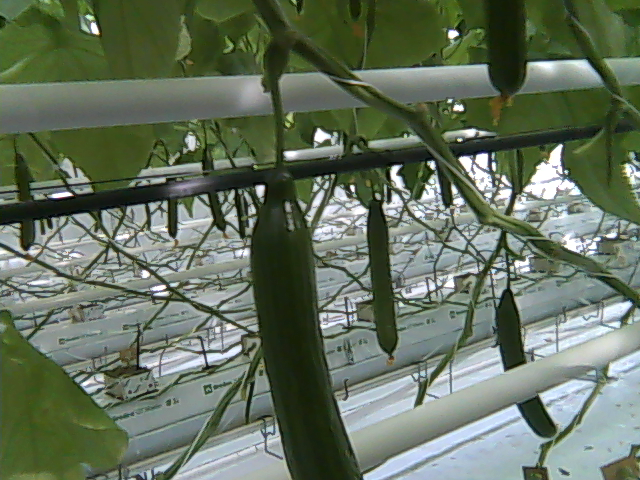concombre: (247, 158, 365, 480), (483, 1, 531, 129)
